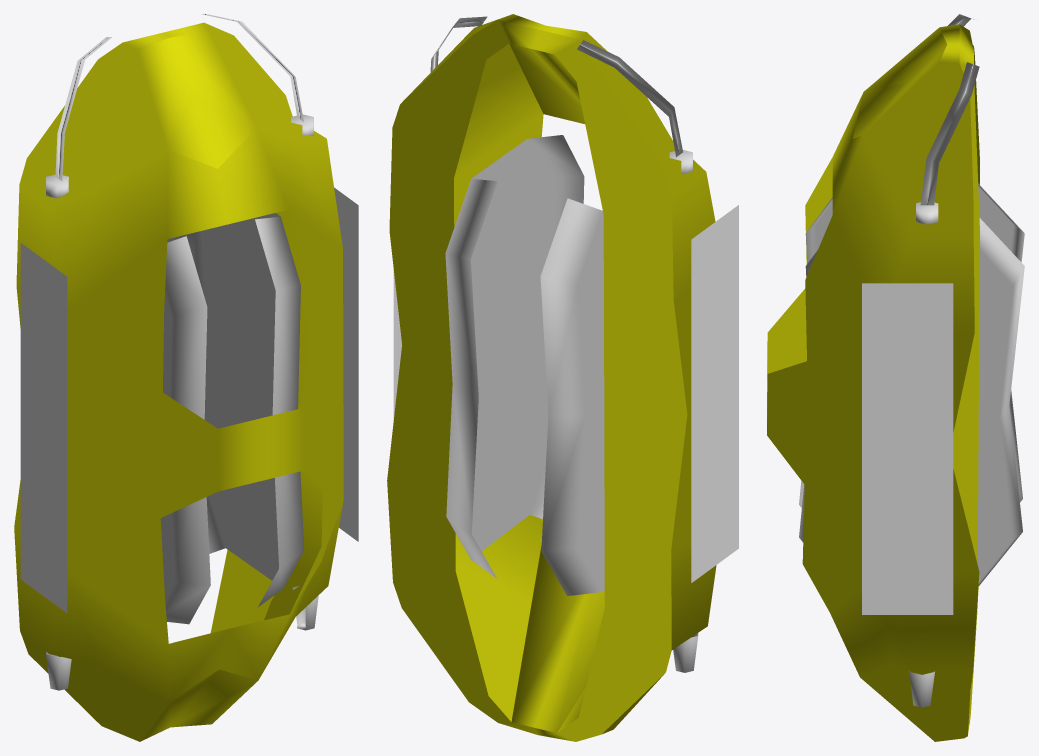
File: Shared_Caliper_Car_BMW_I8_2018_Caliper03_L_FL.fbx
3 views of the same model, side by side, from view 1: azimuth 30°, elevation 25°; view 2: azimuth 150°, elevation 25°; view 3: azimuth 270°, elevation 25° (orthographic). The views are drawn at different scales.
Visible parts, largest first — view 1: Standard_Caliper03_L_FL 1; view 2: Standard_Caliper03_L_FL 1; view 3: Standard_Caliper03_L_FL 1.
Boxes of the visible parts, bbox=[...] form: Standard_Caliper03_L_FL 1: bbox=[14, 14, 358, 741]; Standard_Caliper03_L_FL 1: bbox=[387, 14, 738, 741]; Standard_Caliper03_L_FL 1: bbox=[767, 14, 1024, 741].
Size of the model in its own units: 0.145 by 0.3305 by 0.1127.
